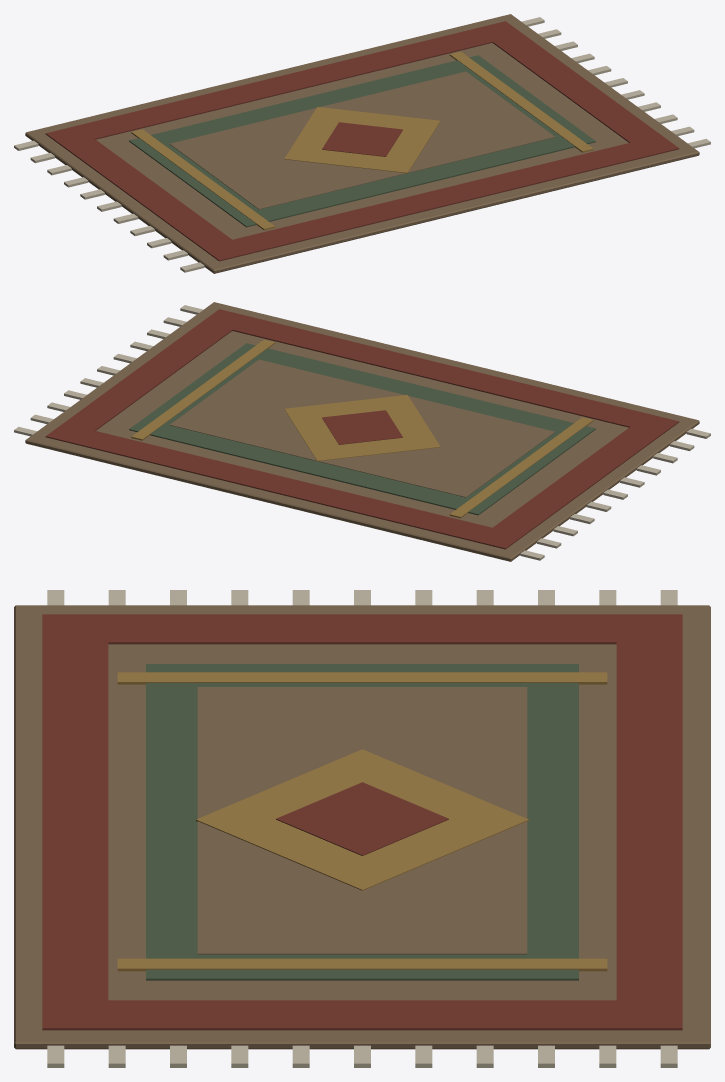
File: prop_rug.glb
The picture shows the model from 3 angles, top to bottom: view 1: azimuth 30°, elevation 25°; view 2: azimuth 150°, elevation 25°; view 3: azimuth 270°, elevation 25°; orthographic projection. The views are drawn at different scales.
Visible parts, largest first — view 1: prop_rug; view 2: prop_rug; view 3: prop_rug.
Part boxes in pixels (bbox=[...]): prop_rug: bbox=[14, 14, 710, 273]; prop_rug: bbox=[14, 302, 710, 561]; prop_rug: bbox=[14, 590, 710, 1067].
Bounding box in the file's own units: 2.38 × 0.029 × 1.48.
